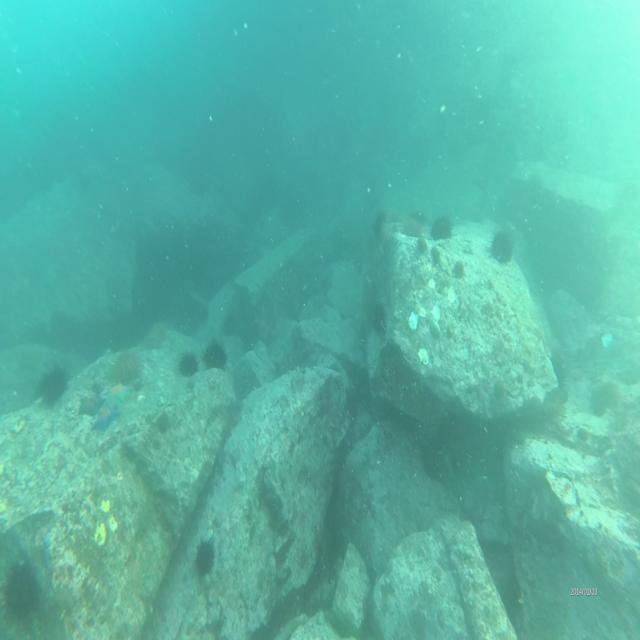echinus: (34, 361, 72, 411), (195, 532, 218, 578), (490, 227, 516, 265), (202, 338, 230, 372), (173, 346, 200, 378), (370, 301, 390, 337), (371, 205, 388, 247), (401, 212, 425, 241), (430, 212, 454, 241)
starfish: (91, 402, 118, 430), (105, 378, 131, 404), (76, 390, 104, 414)
